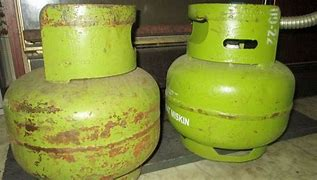gas_ijo: (4, 3, 160, 180), (165, 3, 296, 163)
